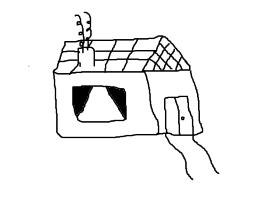door: (159, 91, 198, 140)
open_window: (67, 82, 129, 124)
roof: (52, 35, 190, 72)
smoking_chimney: (68, 8, 100, 68)
wall: (50, 69, 161, 141)
